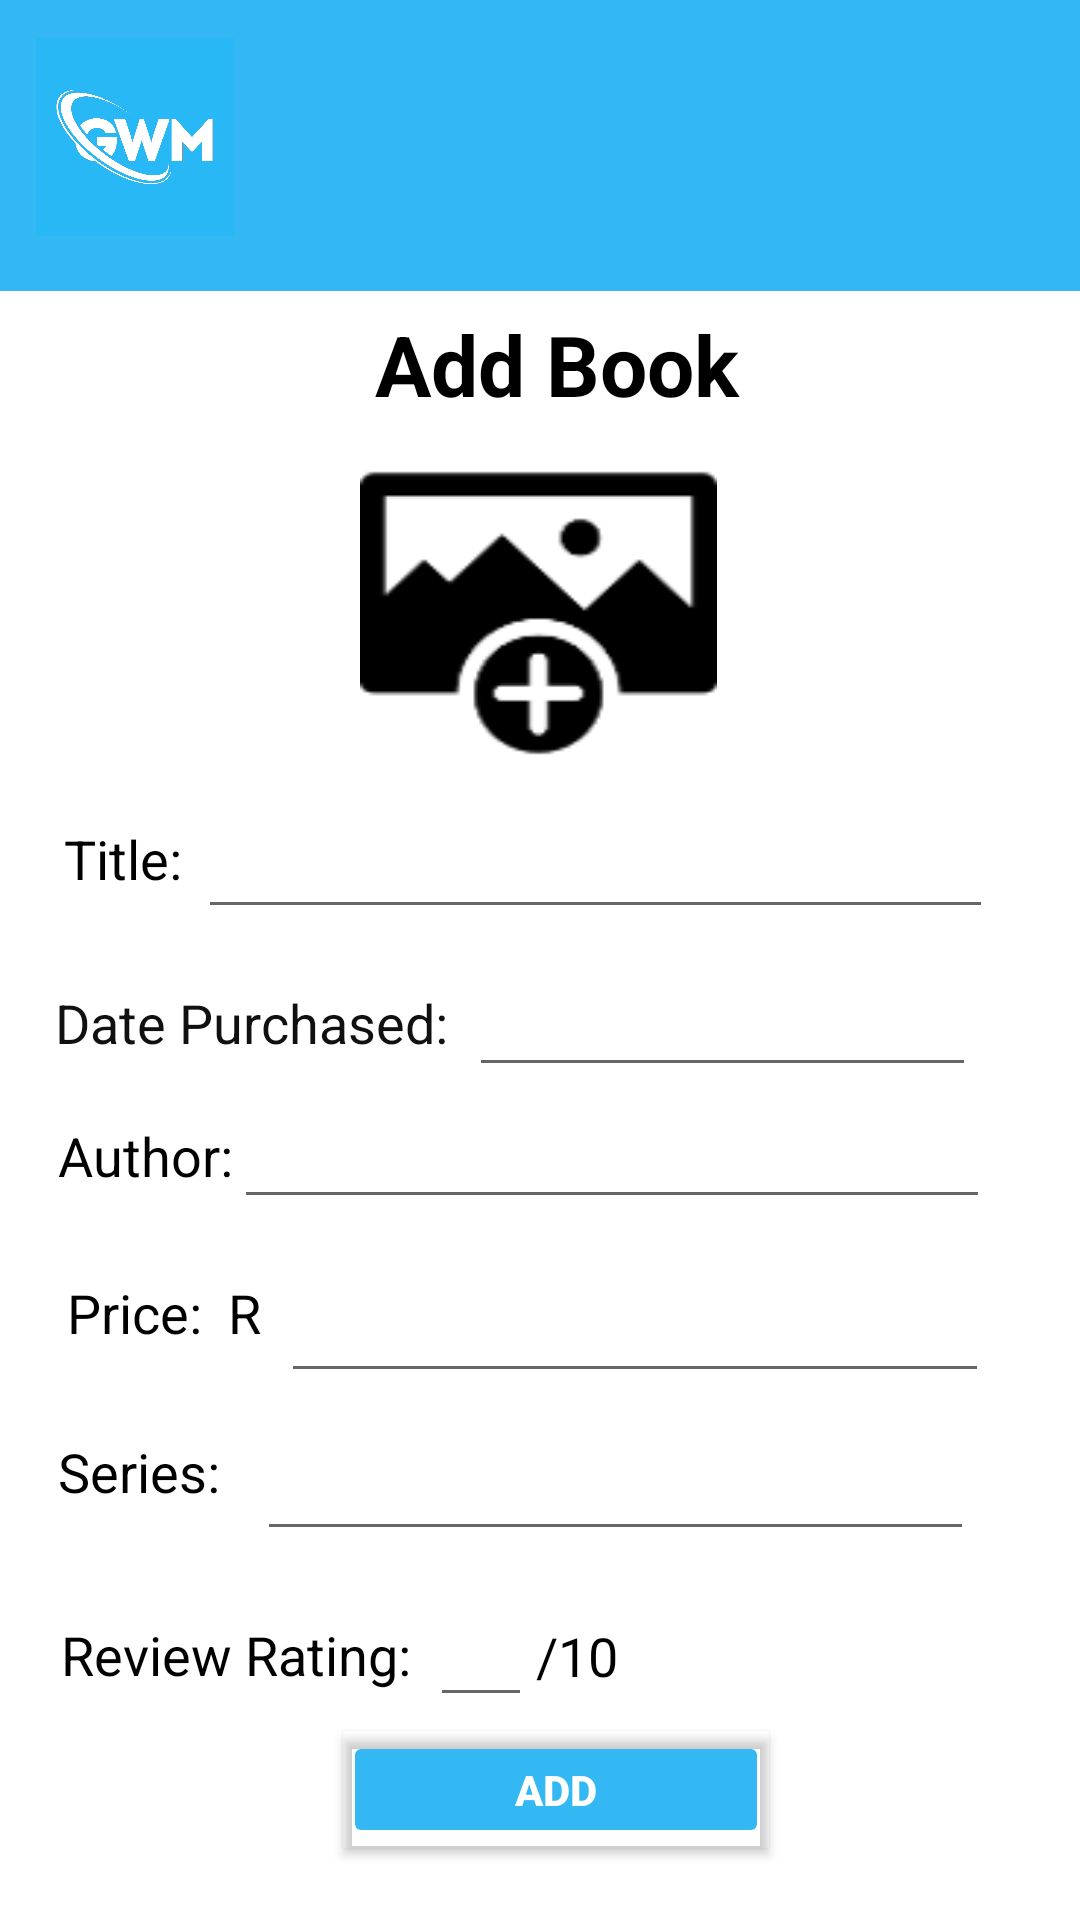

Named icons in this screenshot (1080*1920) and their bounding boxes, (x1, y1, x2, y2):
addimg: (360, 471, 717, 755)
